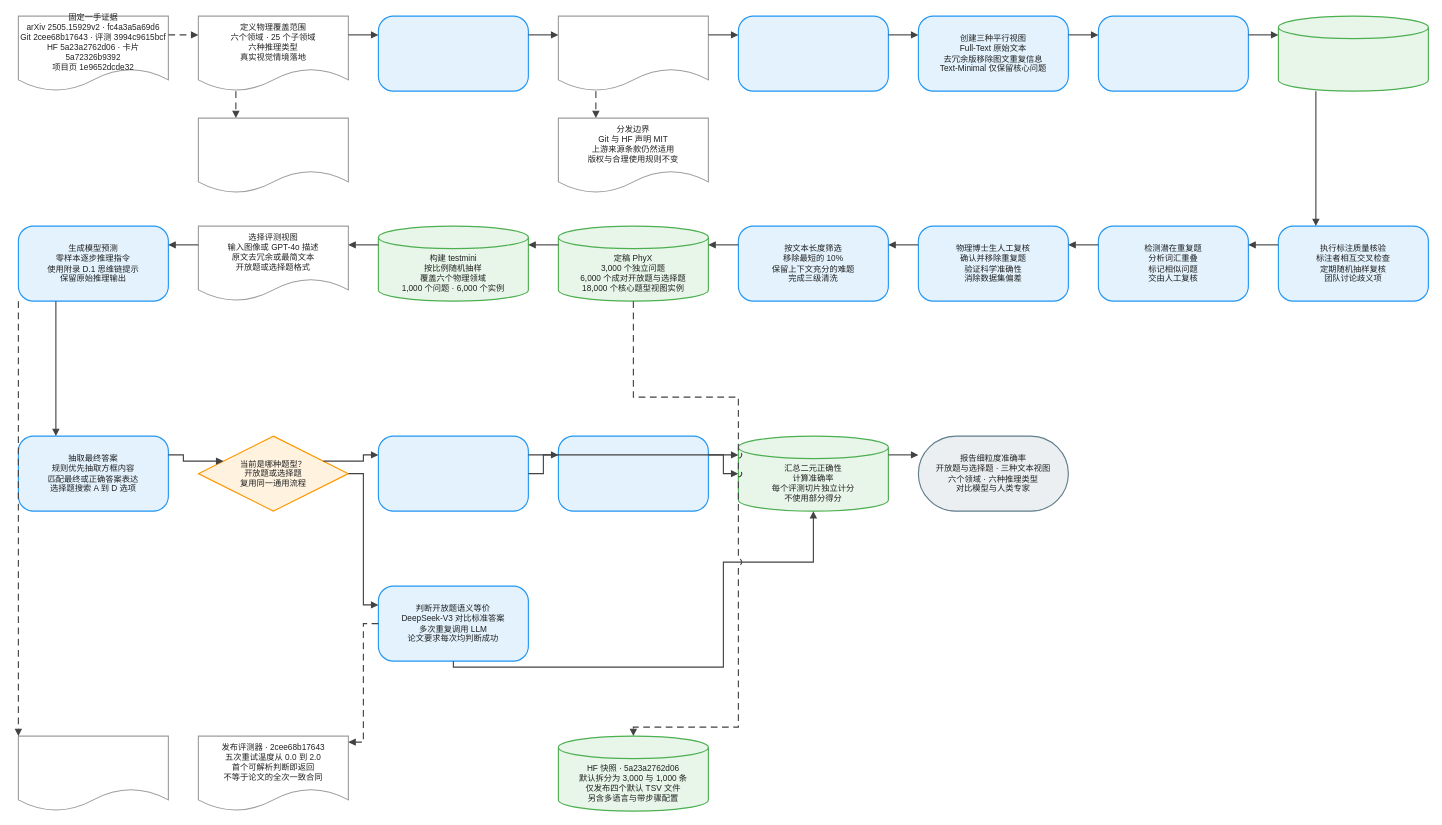
The diagram is 1442 pixels wide and 825 high, and some of its shapes have lost their labels. Here are the shapes that lost their labels. From the top down, the box of each, then its label:
(377, 15, 529, 91): 招募 STEM 研究生 担任专家标注者 全部问题使用英文 每题包含一张真实情境图像
(557, 15, 709, 91): 选择允许使用的来源 免费可访问在线资源 教材及多种其他材料 避免答案紧邻题目
(737, 15, 889, 91): 配对两种题型 每个开放题转换为选择题 每个选择题转换为开放题 选择题四项且仅一项正确
(1097, 15, 1249, 91): 用 GPT-4o 描述每张图 覆盖细粒度视觉内容 形成自包含文字描述 支持纯文本 LLM 评测
(1277, 15, 1429, 91): 汇总候选池 共 3,300 个问题 来自多种来源 保留答案图像与标签
(197, 117, 349, 193): 基准范围边界 大学级英文问题 真实视觉物理情境 不等同于纯示意图知识回忆
(377, 435, 529, 511): 匹配选择题字母 比较抽取的 A 到 D 直接返回二元正确性 否则调用 Judge 回退
(557, 435, 709, 511): 判断含糊的选择题输出 仅在字母直接匹配失败时使用 复用同一 LLM Judge 模板 返回二元正确性
(17, 735, 169, 811): 提示词与解析器披露边界 论文披露思维链与正则逻辑 披露 Judge 描述和推理类型提示 发布代码补充少样本 Judge 细节
